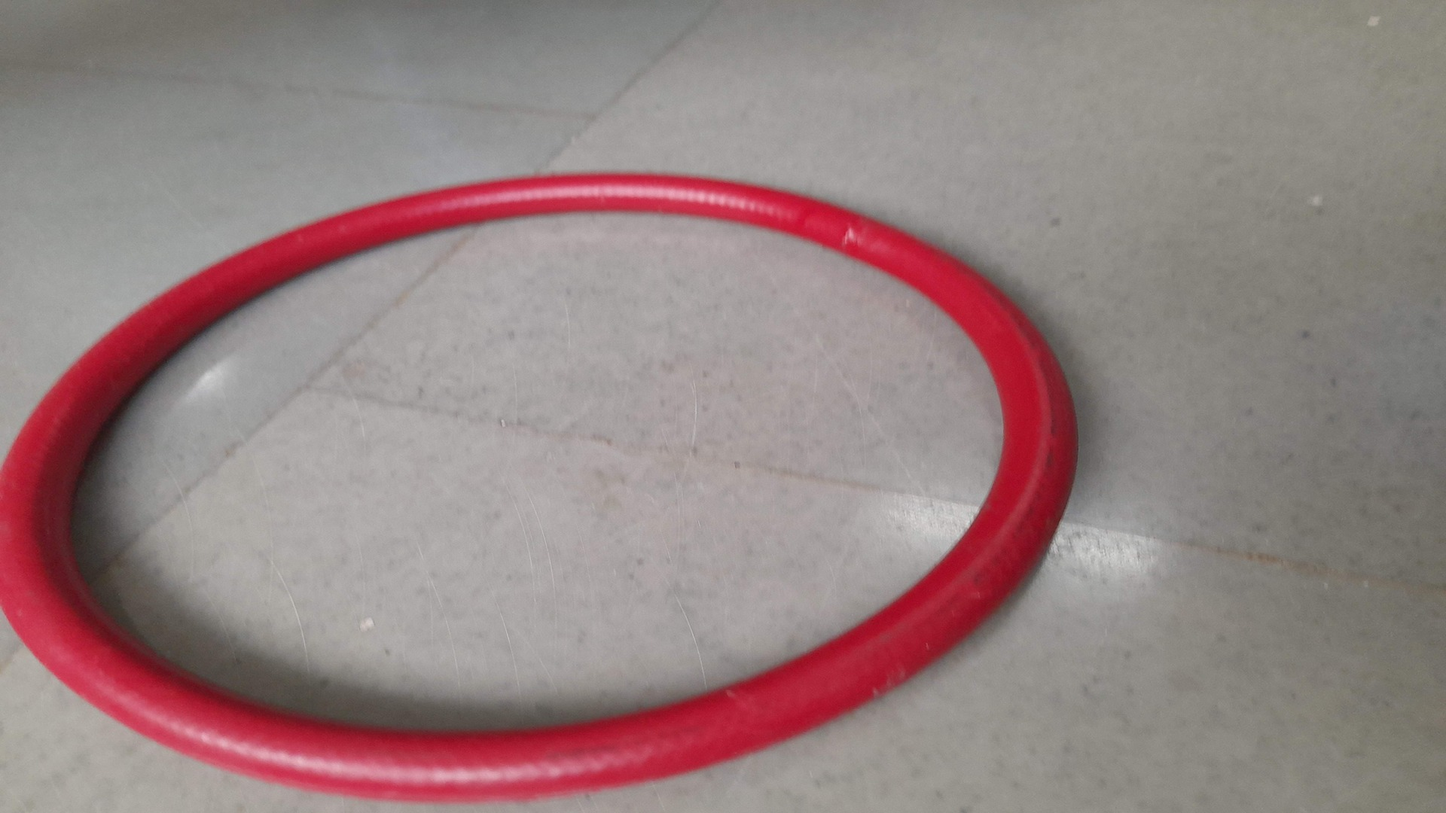Red ring: (2, 178, 1066, 802)
